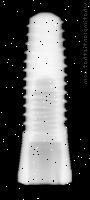3M ESPE: (17, 11, 72, 185)
